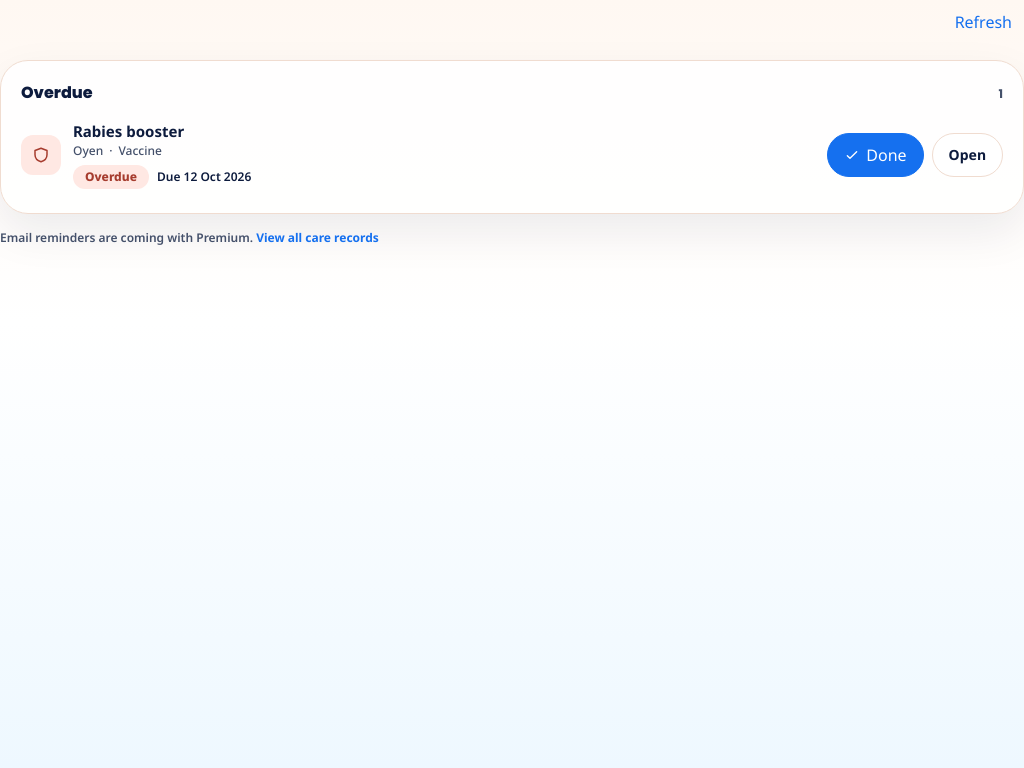
Test: A completion attempt outlives its dialog › explains when another tab logged it, without a second save
Click the button with aria-label "Mark Rabies booster for Oyen as done" at x=875, y=155, box x1=827 y1=133 x2=924 y2=177
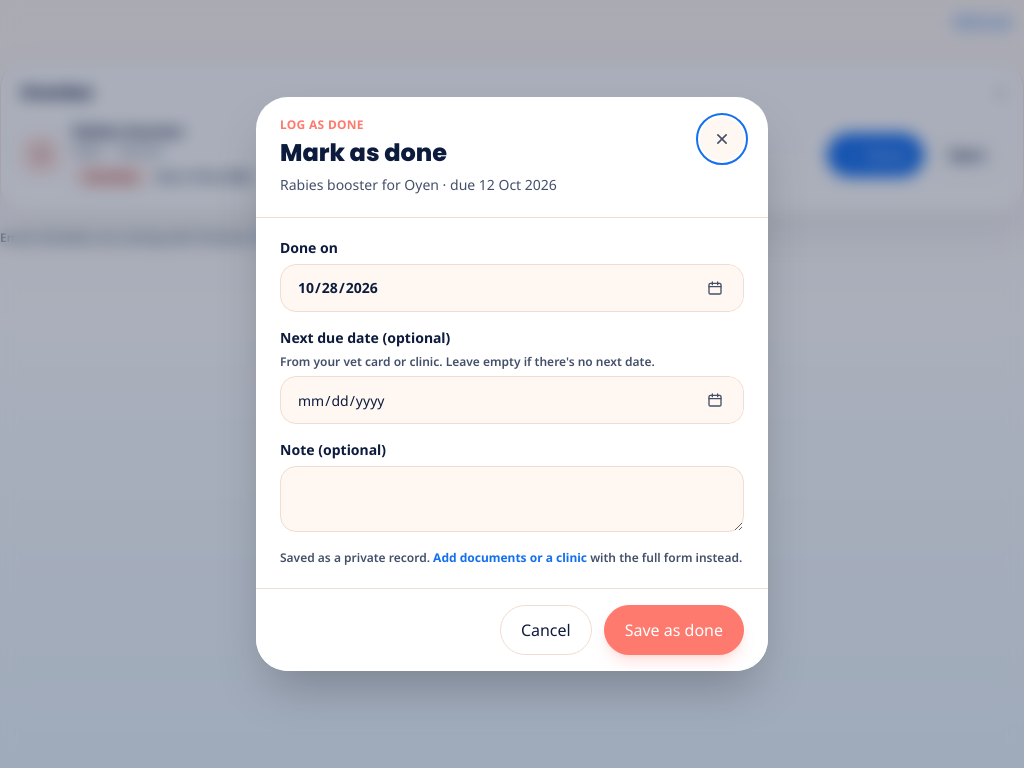
Now the dialog "Mark as done" is shown
Click the button "Save as done" at x=674, y=630, box x1=604 y1=605 x2=744 y2=655
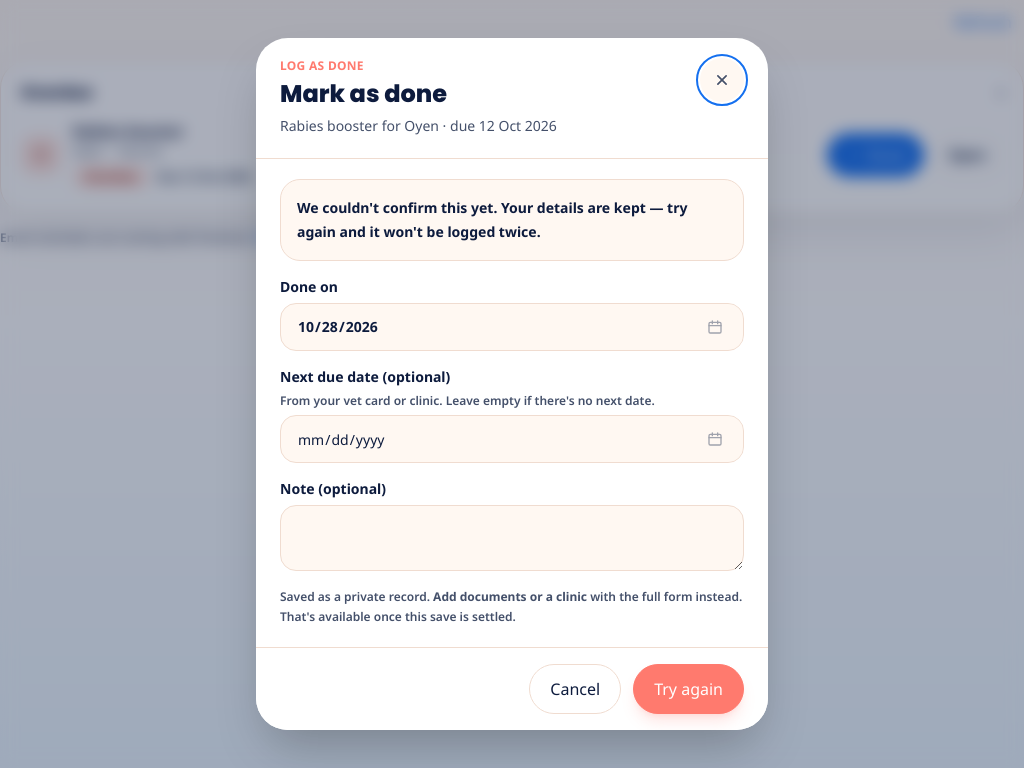
Now the text "We couldn't confirm this yet" is shown, box x1=297 y1=198 x2=687 y2=241
Click the button "Try again" at x=689, y=689, box x1=633 y1=664 x2=744 y2=714
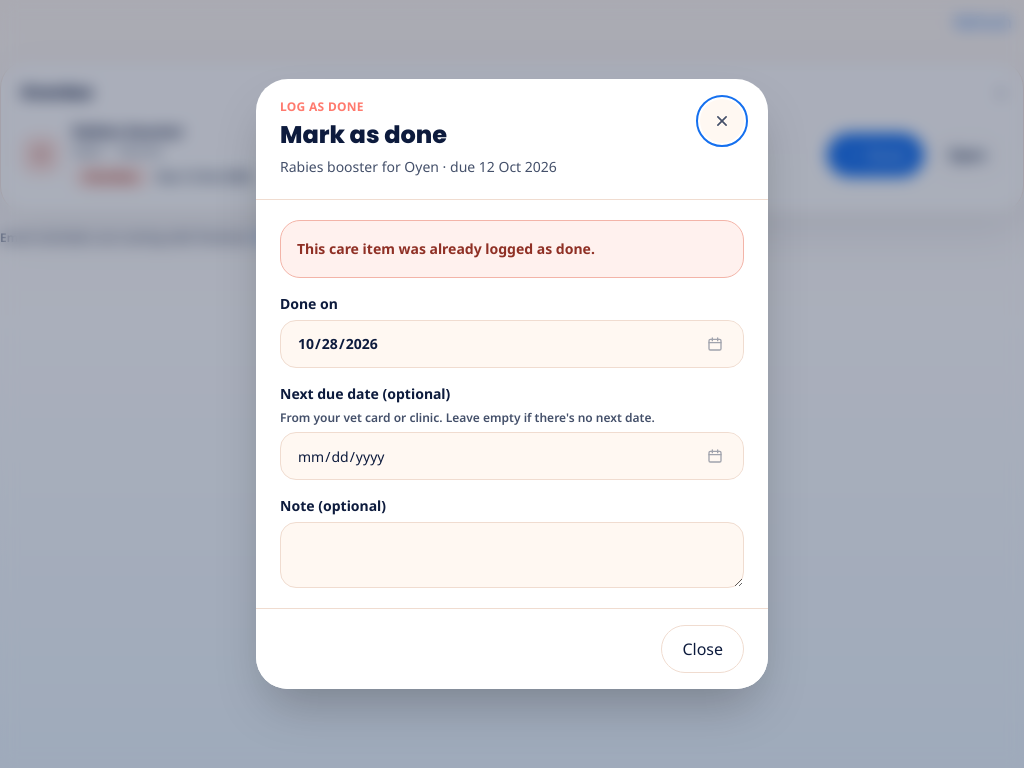
Now the text "This care item was already logged as done." is shown, box x1=280 y1=220 x2=744 y2=278
